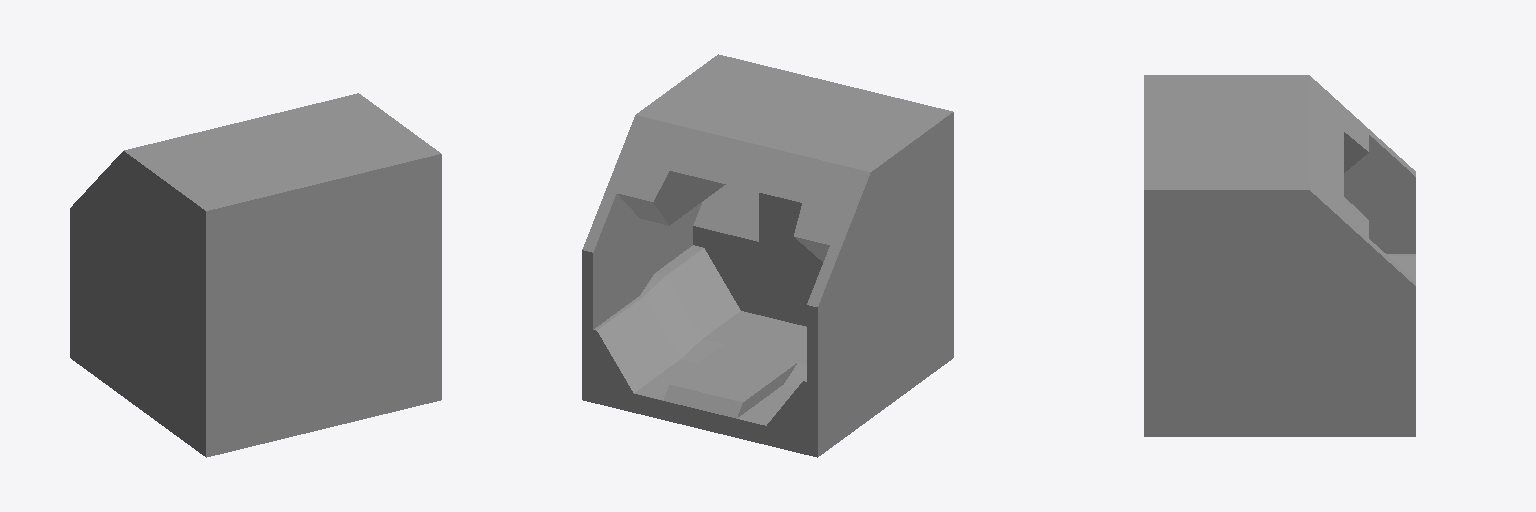
The model's file is minerbase0.obj.
3 views of the same model, side by side, from view 1: azimuth 30°, elevation 25°; view 2: azimuth 150°, elevation 25°; view 3: azimuth 270°, elevation 25° (orthographic).
Visible parts, largest first — view 1: dock.001; view 2: dock.001; view 3: dock.001.
Part boxes in pixels (x1,y1,x2,y2): dock.001: (70,93,441,457); dock.001: (582,54,953,457); dock.001: (1144,75,1415,436).
Bounding box in the file's own units: 40 × 40 × 40.